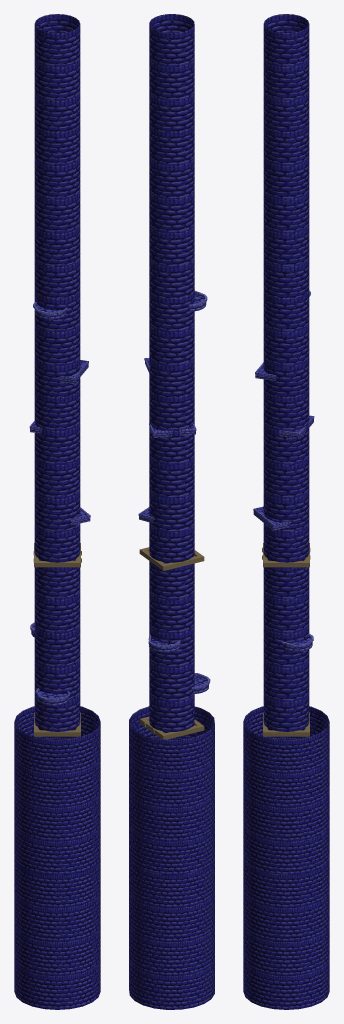
The model's file is Lvl1_02.fbx.
3 renders of one model, left to right at view 1: azimuth 90°, elevation 25°; view 2: azimuth 210°, elevation 25°; view 3: azimuth 270°, elevation 25°, orthographic.
Parts seen in each view (by area): view 1: pPipe7, pPipe8, pPipe9, pPipe13, pPipe12, pPipe14, pPipe10, pPipe11, pPipe31, pPipe2, pPipe17, pPipe22 (+22 smaller); view 2: pPipe7, pPipe8, pPipe9, pPipe13, pPipe12, pPipe14, pPipe10, pPipe11, pPipe31, pPipe26, pPipe28, pPipe22 (+23 smaller); view 3: pPipe7, pPipe8, pPipe9, pPipe14, pPipe12, pPipe13, pPipe11, pPipe10, pPipe31, pPipe1, pPipe26, pPipe22 (+22 smaller).
Boxes of the visible parts, box(x1,y1,x2,y2) form: pPipe7: box(14, 706, 100, 773); pPipe8: box(14, 737, 100, 807); pPipe9: box(14, 790, 100, 841); pPipe13: box(14, 924, 100, 976); pPipe12: box(14, 890, 100, 942); pPipe14: box(14, 958, 100, 1009); pPipe10: box(14, 824, 100, 875); pPipe11: box(14, 857, 100, 908); pPipe31: box(34, 14, 80, 67); pPipe2: box(34, 624, 80, 667); pPipe17: box(34, 388, 80, 431); pPipe22: box(34, 323, 80, 366); pPipe7: box(129, 706, 214, 773); pPipe8: box(129, 737, 214, 807); pPipe9: box(129, 788, 214, 841); pPipe13: box(129, 923, 214, 976); pPipe12: box(129, 889, 214, 942); pPipe14: box(129, 957, 214, 1009); pPipe10: box(129, 822, 214, 875); pPipe11: box(129, 856, 214, 908); pPipe31: box(149, 14, 194, 67); pPipe26: box(149, 190, 194, 233); pPipe28: box(149, 122, 194, 165); pPipe22: box(149, 323, 194, 366); pPipe7: box(243, 706, 329, 773); pPipe8: box(243, 737, 329, 807); pPipe9: box(243, 790, 329, 841); pPipe14: box(243, 958, 329, 1009); pPipe12: box(243, 890, 329, 942); pPipe13: box(243, 924, 329, 976); pPipe11: box(243, 856, 329, 908); pPipe10: box(243, 824, 329, 875); pPipe31: box(263, 14, 309, 66); pPipe1: box(263, 659, 309, 702); pPipe26: box(263, 190, 309, 233); pPipe22: box(263, 323, 309, 366).
Size of the model in its own units: 37.62 by 466 by 37.62.
